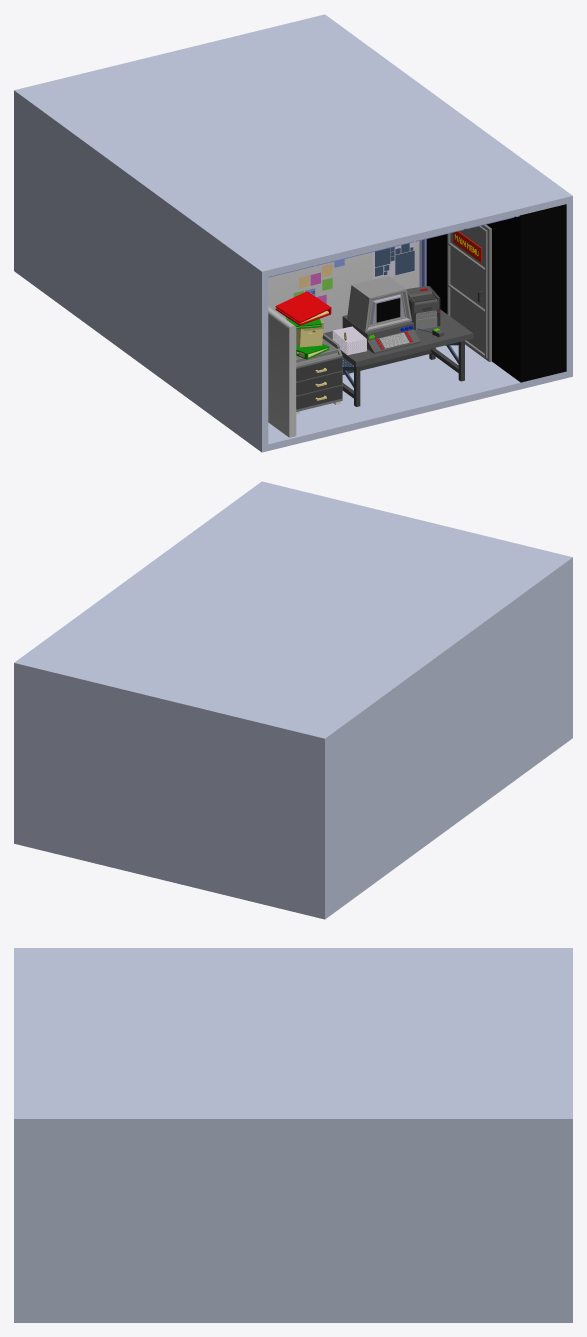
Rendered from 4office.glb.
3 renders of one model, top to bottom at view 1: azimuth 30°, elevation 25°; view 2: azimuth 150°, elevation 25°; view 3: azimuth 270°, elevation 25°, orthographic. The views are drawn at different scales.
Visible parts, largest first — view 1: Комната, Cube.008, Cube.044, Cube.018, Cube.028, Cube.010, Cube.011, Cube.020, Cube.058, Cube.029, Cube.012, Cube.019 (+3 smaller); view 2: Комната; view 3: Комната.
Part boxes in pixels (x1,y1,x2,y2): Комната: (14, 14, 572, 452); Cube.008: (426, 204, 566, 382); Cube.044: (447, 224, 491, 361); Cube.018: (268, 241, 419, 332); Cube.028: (268, 306, 296, 437); Cube.010: (347, 276, 411, 332); Cube.011: (324, 309, 473, 366); Cube.020: (296, 357, 342, 409); Cube.058: (275, 291, 331, 325); Cube.029: (342, 315, 420, 353); Cube.012: (342, 340, 464, 381); Cube.019: (296, 333, 342, 411); Комната: (14, 481, 572, 919); Комната: (14, 948, 572, 1322).
Size of the model in its own units: 12.95 by 7.2 by 17.88.
